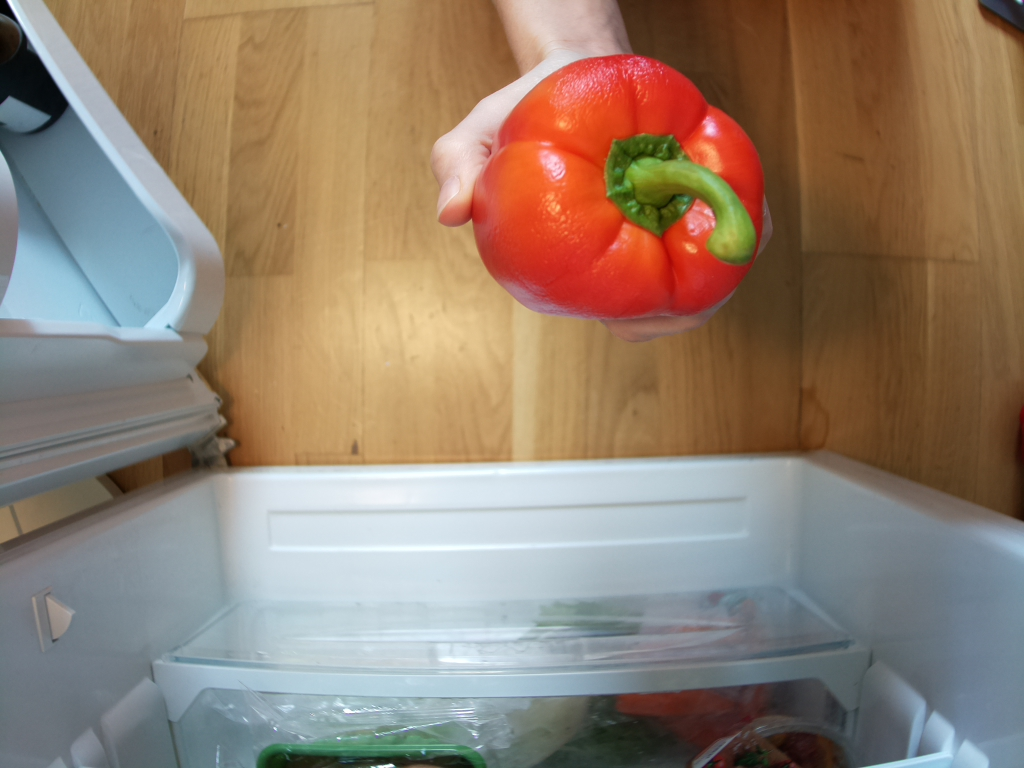pepper-bad: (471, 49, 780, 330)
